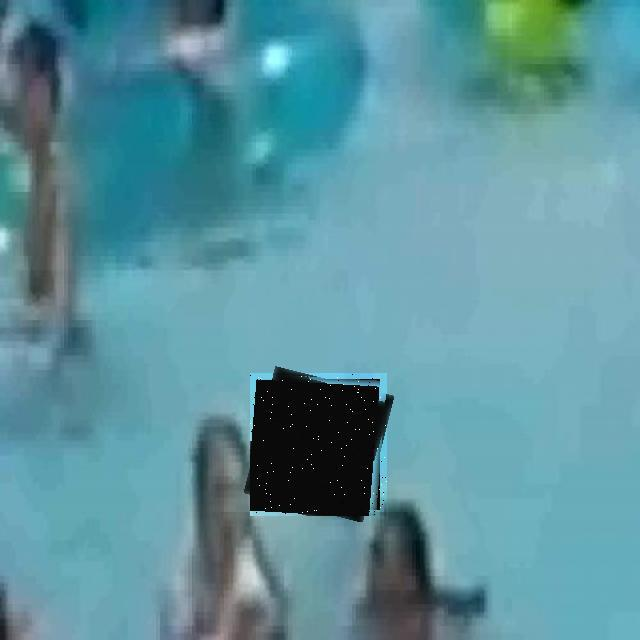Out of Water: (250, 373, 387, 516)
